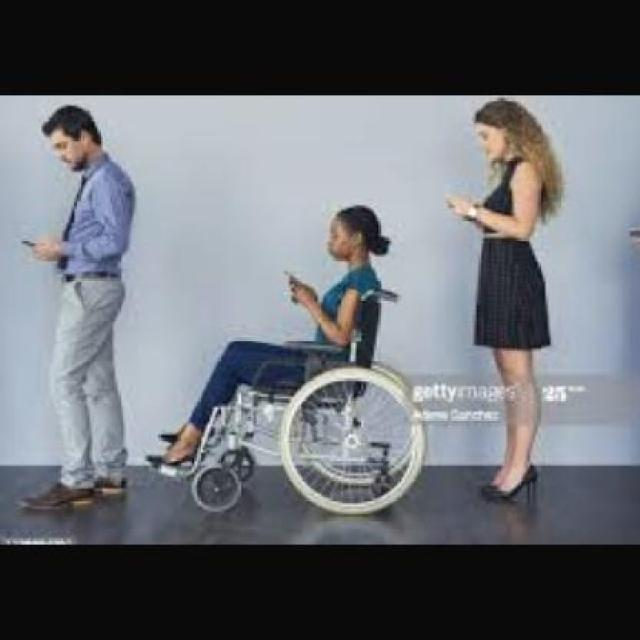wheelchairs: (176, 277, 436, 521)
